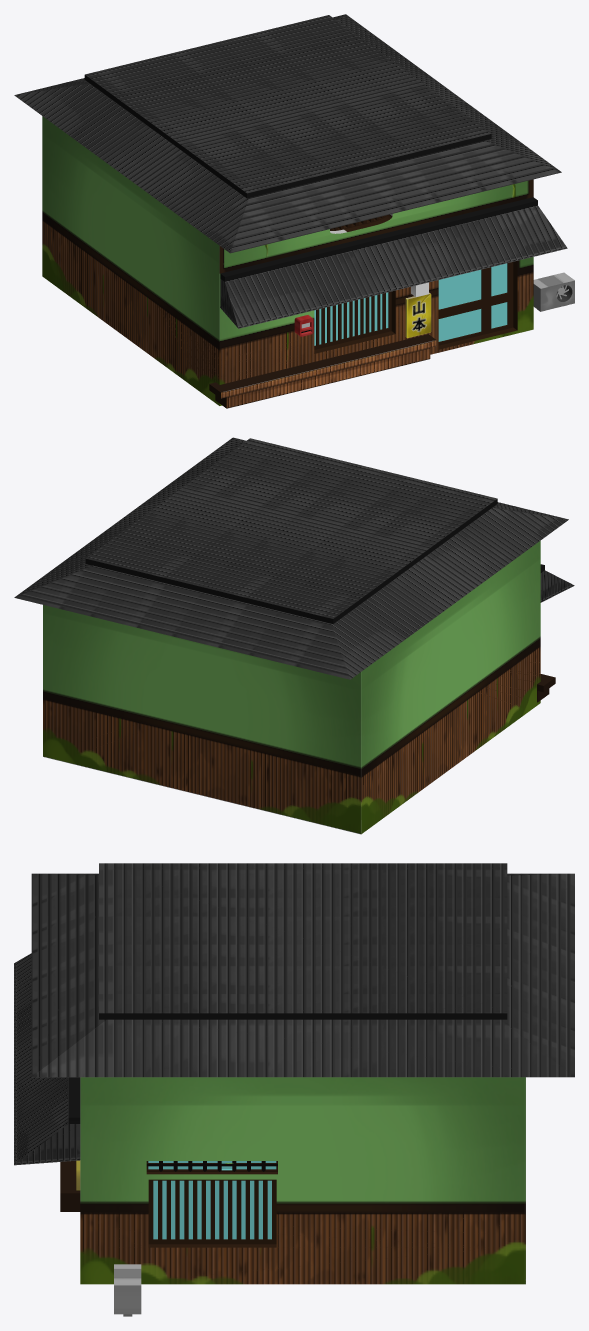
File: House_Yamamoto.fbx
3 renders of one model, top to bottom at view 1: azimuth 30°, elevation 25°; view 2: azimuth 150°, elevation 25°; view 3: azimuth 270°, elevation 25°, orthographic. The views are drawn at different scales.
Parts seen in each view (by area): view 1: Top, building, Cube.015, Cube.030, Cube.011, Cube.014, Cube.010, Cube.008, Cube.016; view 2: building, Top, Cube.015; view 3: Top, building, Cube.019, Cube.015, Cube.013, Cube.008, Cube.030.
Part boxes in pixels (x1,y1,x2,y2): Top: (14,14,561,253); building: (42,116,533,405); Cube.015: (220,197,567,328); Cube.030: (209,334,436,408); Cube.011: (438,268,485,345); Cube.014: (314,291,391,349); Cube.010: (486,262,513,333); Cube.008: (533,272,574,311); Cube.016: (405,292,431,338); building: (43,541,540,834); Top: (14,437,568,679); Cube.015: (540,564,574,602); Top: (31,863,574,1077); building: (80,1077,525,1284); Cube.019: (148,1179,276,1244); Cube.015: (14,953,80,1165); Cube.013: (146,1161,277,1171); Cube.008: (114,1264,141,1316); Cube.030: (60,1161,80,1211).
Size of the model in its own units: 1609 by 812 by 1647.
